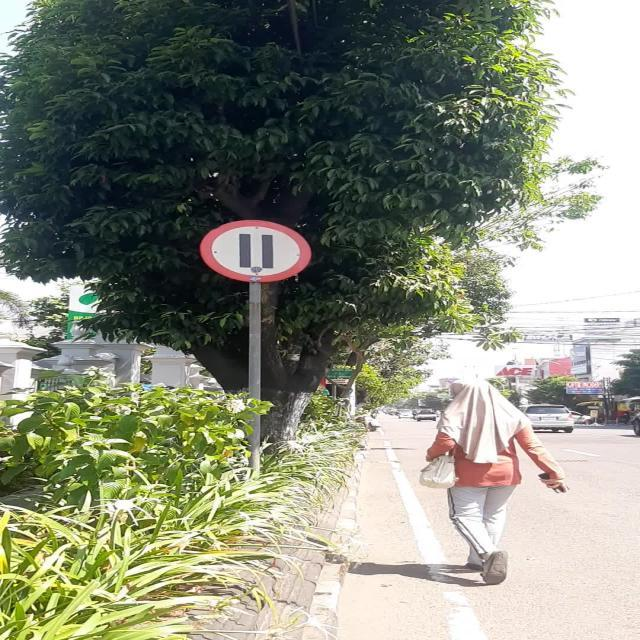Larangan Muatan - 10 ton: (200, 220, 310, 282)
